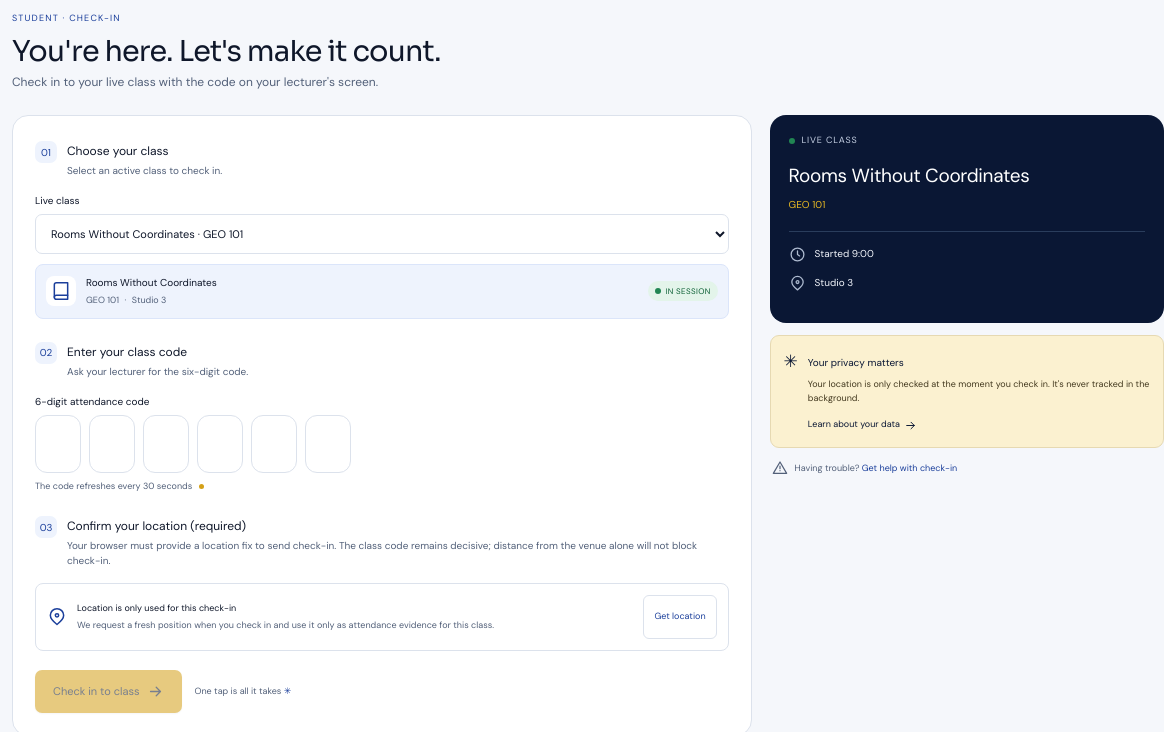
student check-in › explains a device already used by another student without accusing
Type "418203" into the field named "Code digit 1" at (58, 444), box [35,415,81,473]
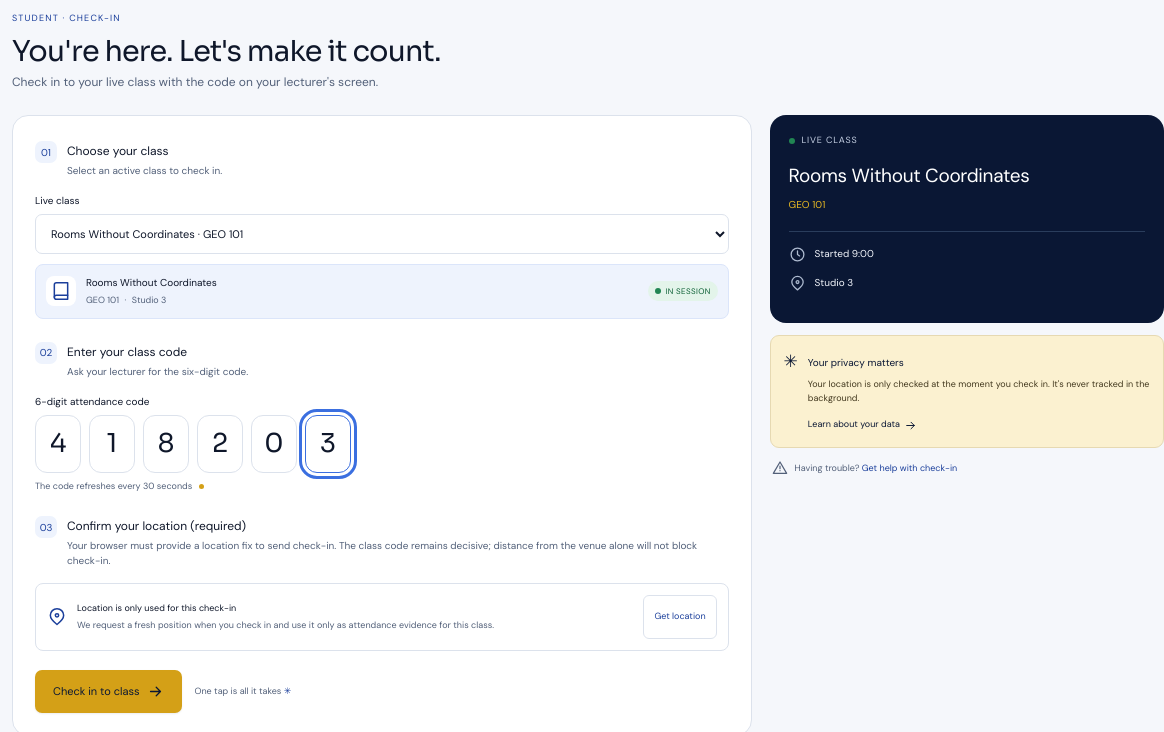
Click the button "Check in to class" at (109, 692), box [35,670,182,713]
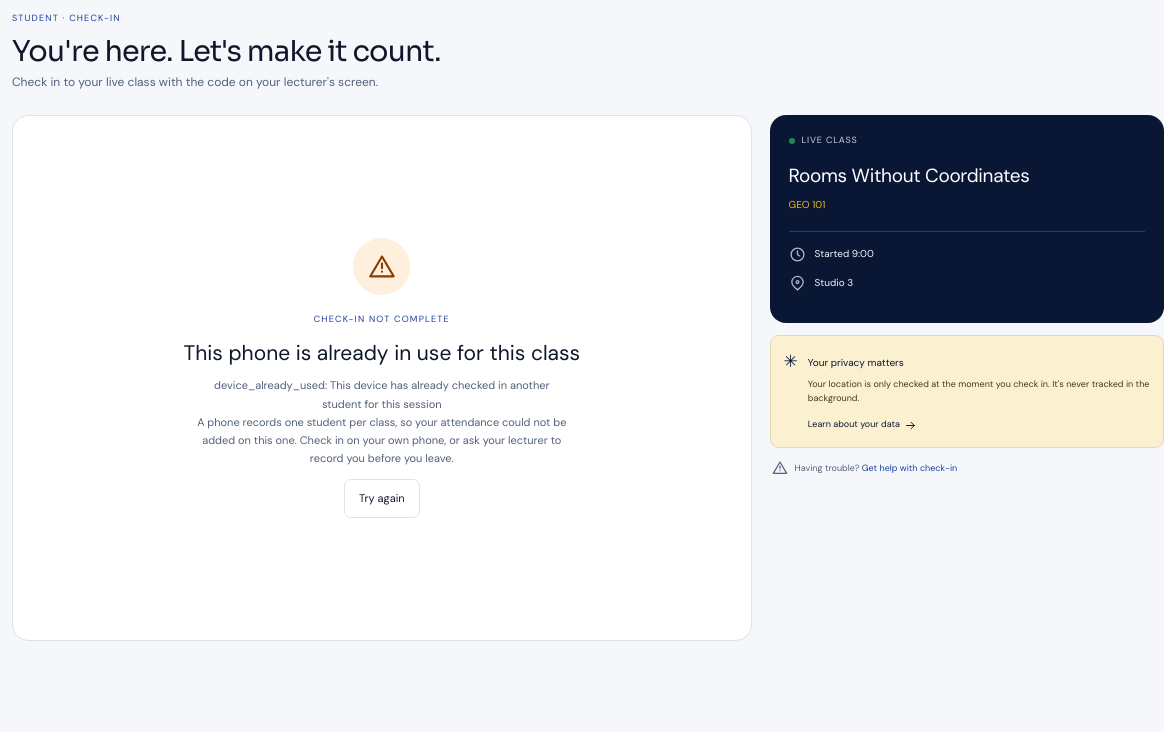
Now the heading "This phone is already in use for this class" is shown, box [183,338,580,369]
Now the text "A phone records one student per class" is shown, box [197,415,566,465]
